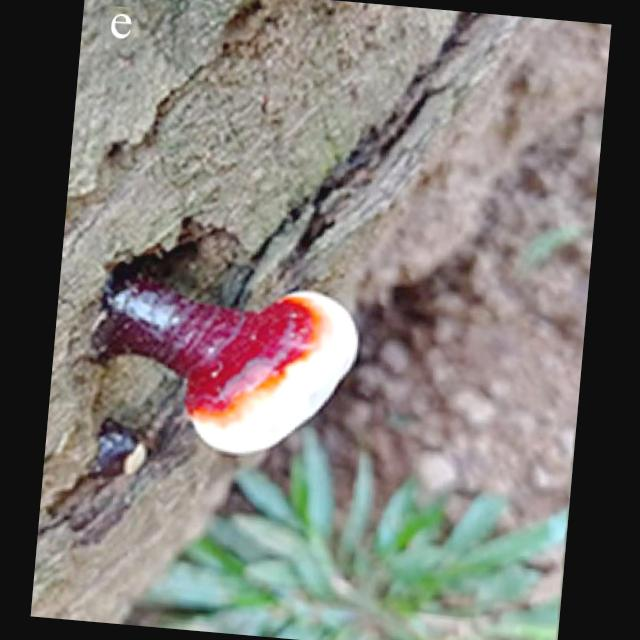ganoderma: (176, 277, 365, 466)
